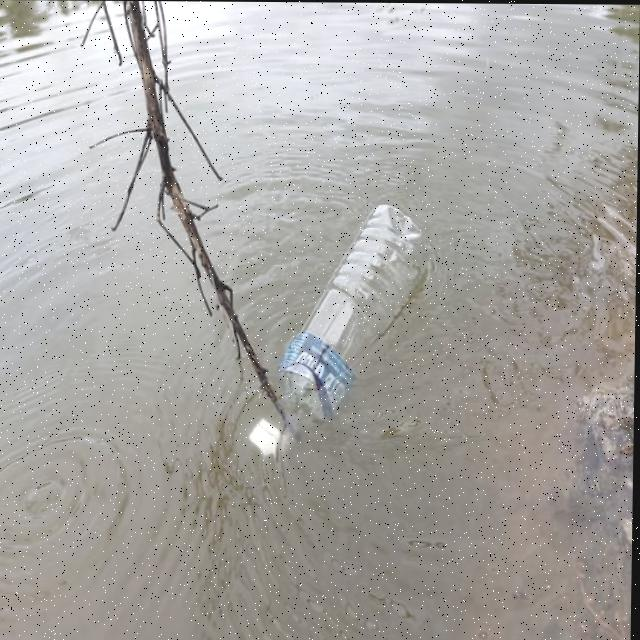waterbottle: (242, 195, 433, 481)
